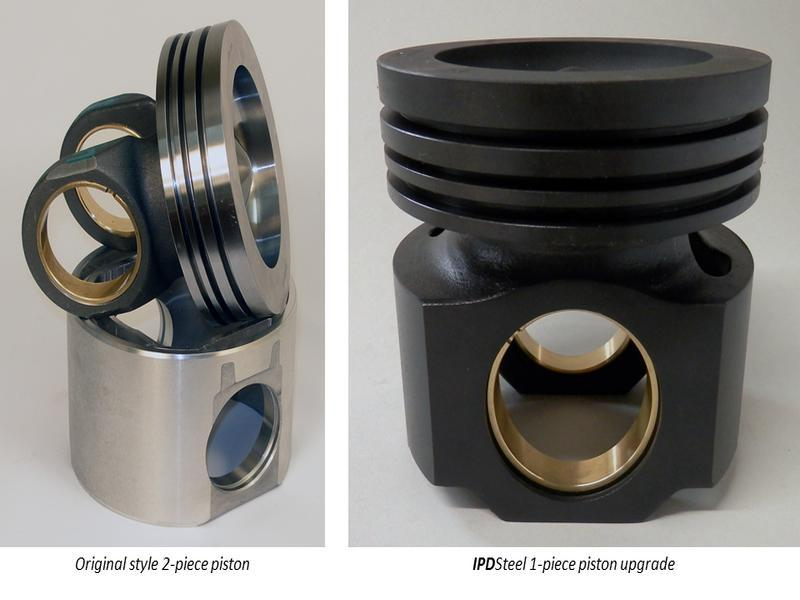piston: (357, 22, 787, 541)
